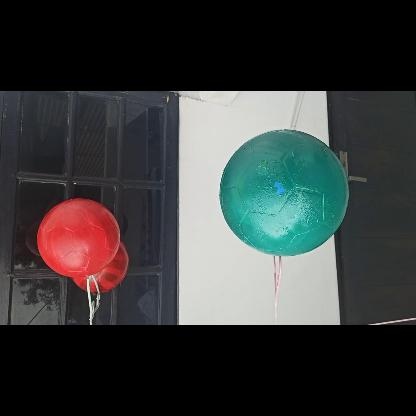red_ball: (36, 198, 120, 282)
